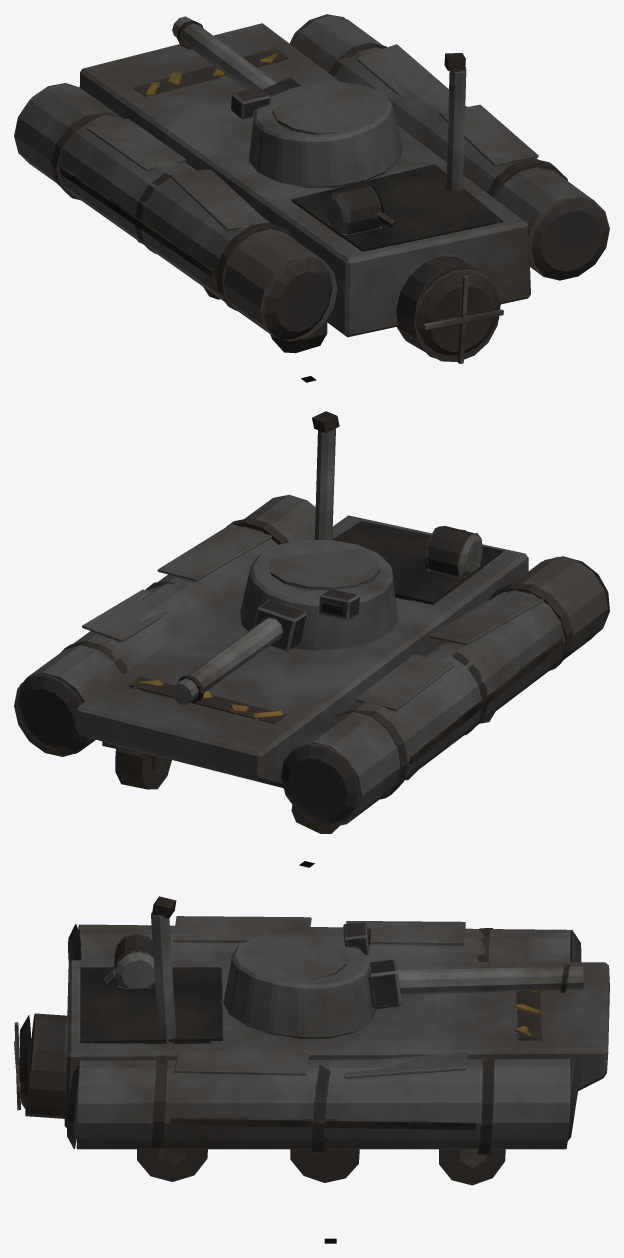
Rendered from chs_mire_wreck.fbx.
The picture shows the model from 3 angles, top to bottom: view 1: azimuth 30°, elevation 25°; view 2: azimuth 150°, elevation 25°; view 3: azimuth 270°, elevation 25°; orthographic projection.
Visible parts, largest first — view 1: base_bar, turret_bar, wheelL3_bar; view 2: base_bar, turret_bar, wheelR1_bar; view 3: base_bar, turret_bar, wheelR1_bar, wheelR3_bar, wheelR2_bar.
Part boxes in pixels (bbox=[...]): base_bar: bbox=[14, 14, 609, 363]; turret_bar: bbox=[172, 16, 402, 187]; wheelL3_bar: bbox=[270, 321, 327, 353]; base_bar: bbox=[14, 411, 609, 827]; turret_bar: bbox=[171, 540, 397, 705]; wheelR1_bar: bbox=[115, 747, 171, 789]; base_bar: bbox=[14, 896, 609, 1154]; turret_bar: bbox=[223, 922, 583, 1038]; wheelR1_bar: bbox=[439, 1149, 505, 1185]; wheelR3_bar: bbox=[137, 1149, 207, 1181]; wheelR2_bar: bbox=[290, 1149, 359, 1182].
Size of the model in its own units: 683 by 681 by 989.
2 materials, 2 textured.
